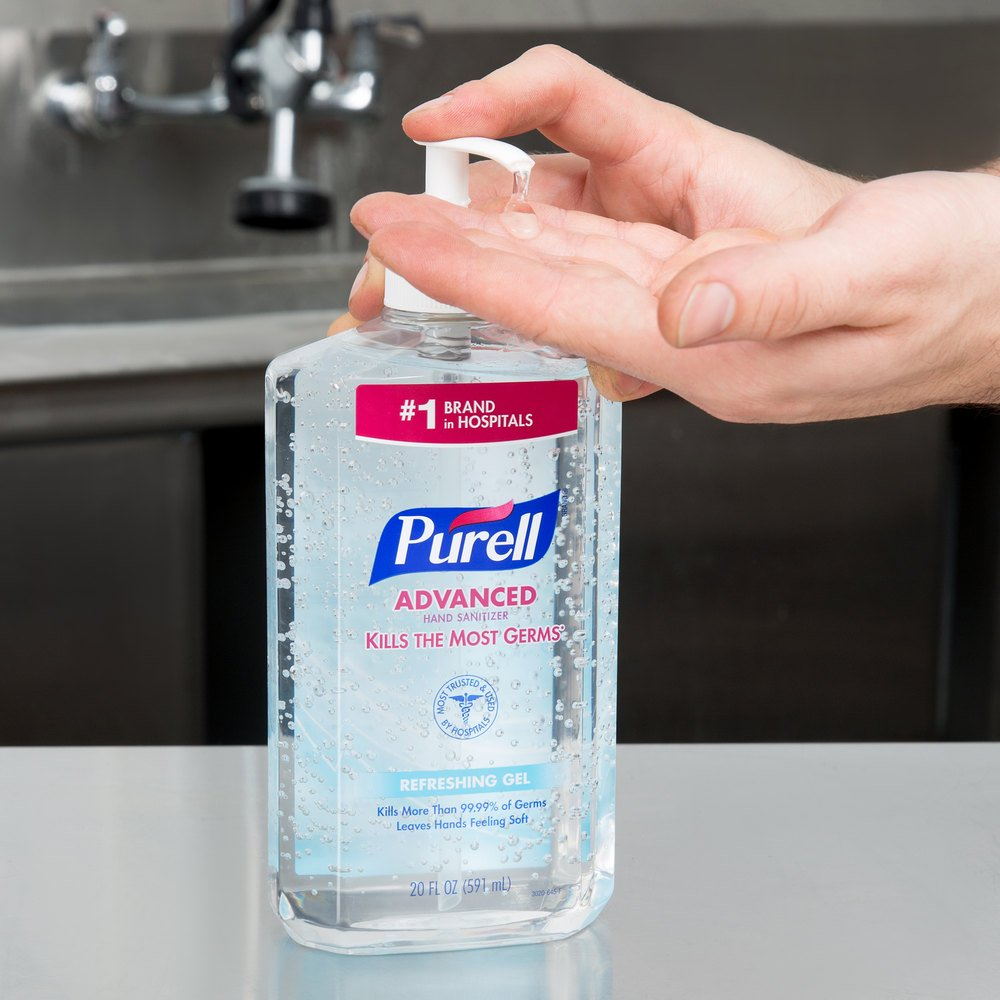Sanitizer: (239, 124, 635, 965)
